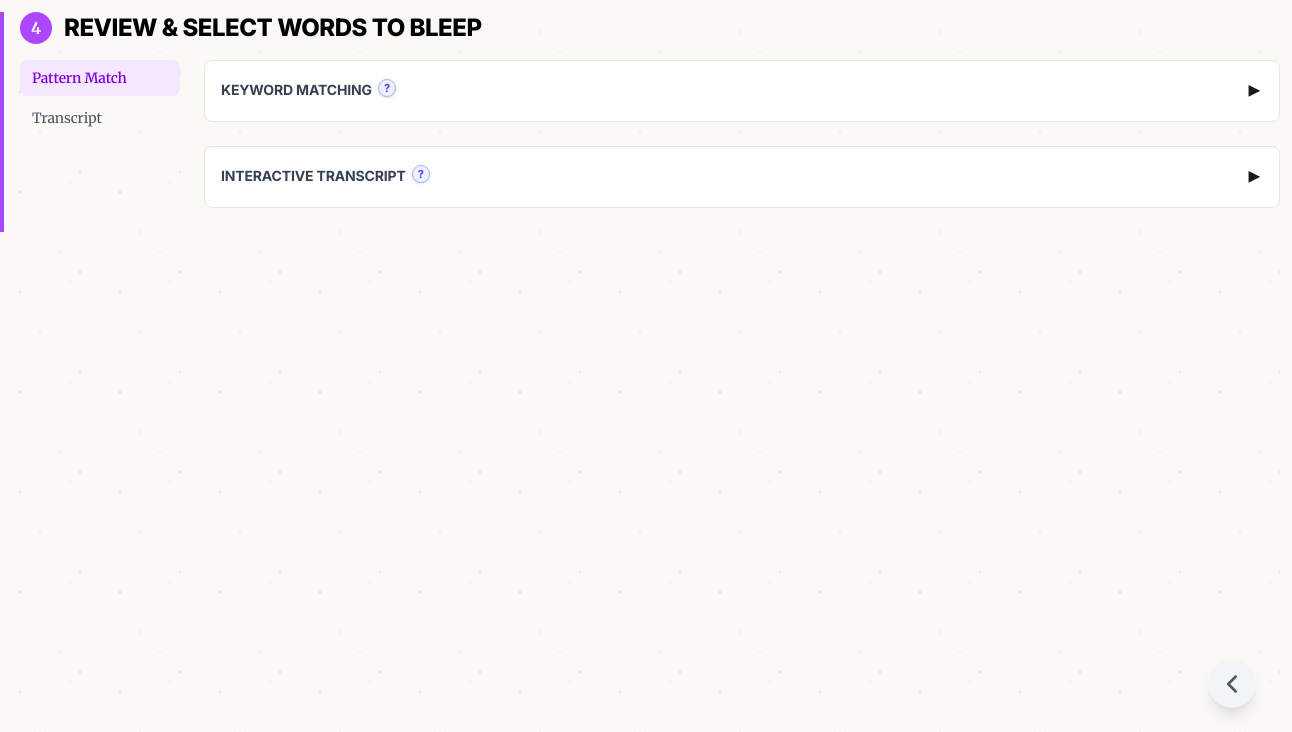
Scenario: ReviewMatchTab › Words to match input › displays current wordsToMatch value
Click the button "Keyword Matching ? ▼".
click(296, 89)  # box [205,61,1279,121]
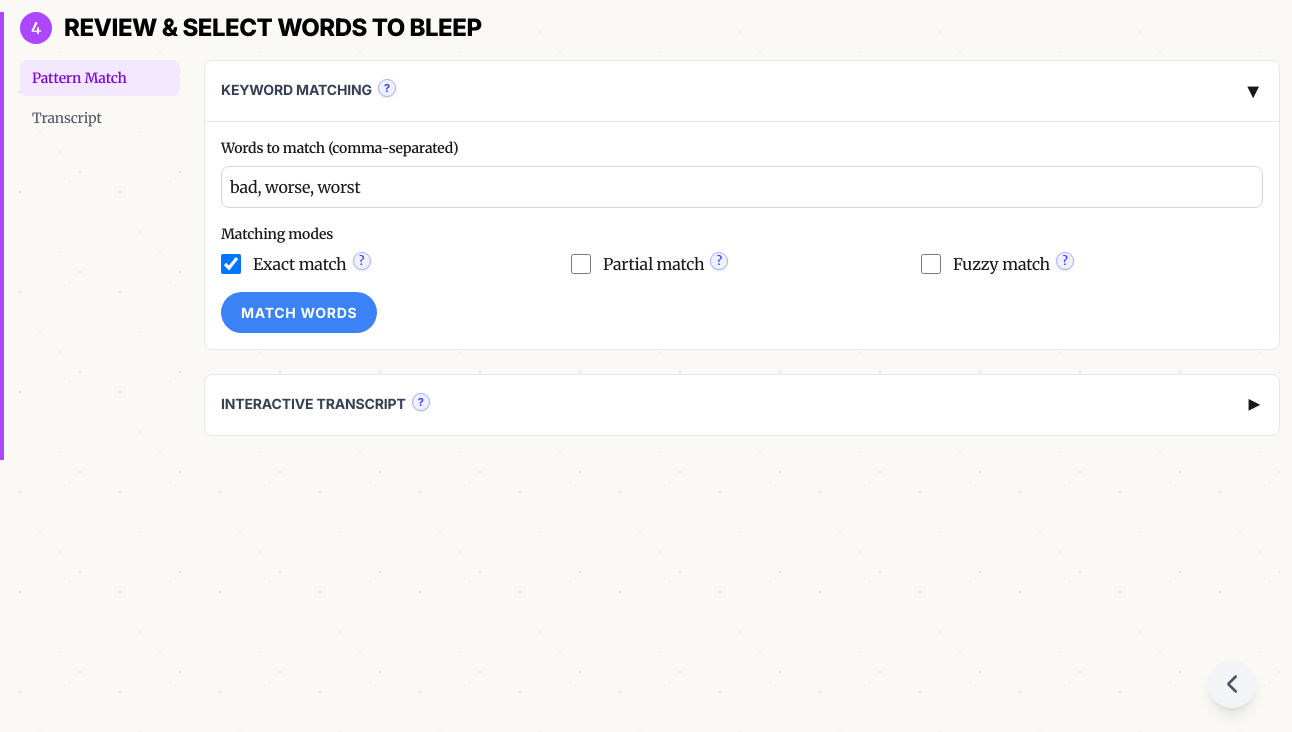
Expected: the field with test id "words-to-match-input" holds "bad, worse, worst", [221,166,1263,208]
